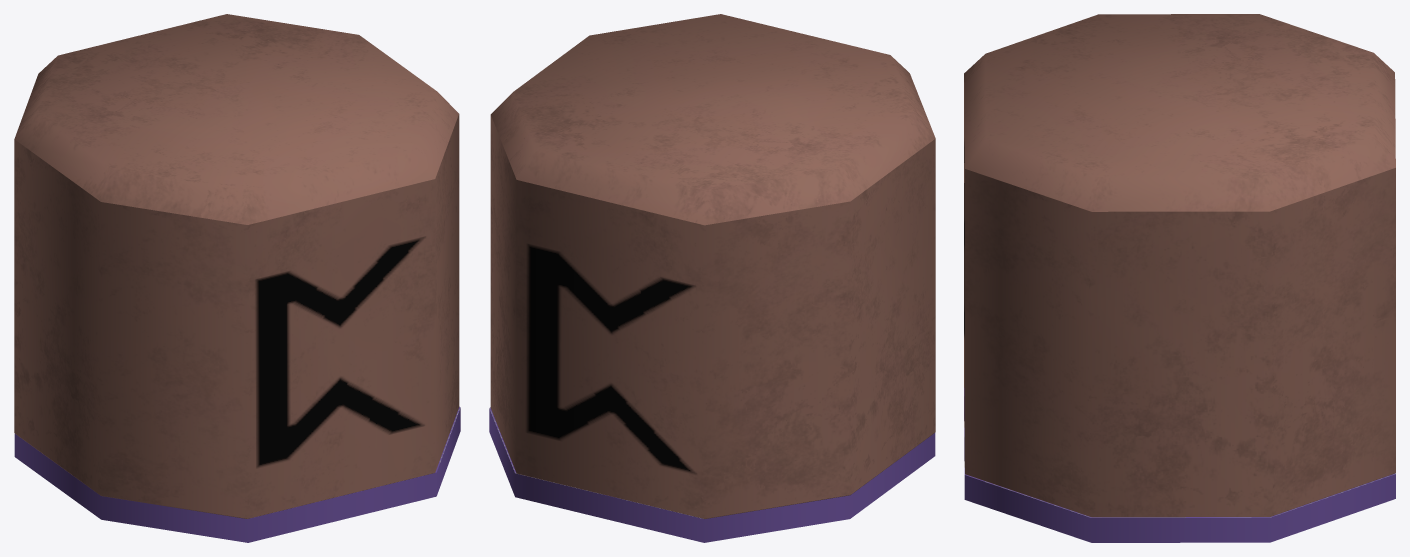
Rendered from arriba.fbx.
The picture shows the model from 3 angles, left to right: view 1: azimuth 30°, elevation 25°; view 2: azimuth 150°, elevation 25°; view 3: azimuth 270°, elevation 25°; orthographic projection. The views are drawn at different scales.
Parts seen in each view (by area): view 1: Cabeza, Circle.004; view 2: Cabeza, Circle.004; view 3: Cabeza, Circle.004.
Part boxes in pixels (left/top/right/bottom): Cabeza: left=14, top=14, right=459, bottom=518; Circle.004: left=14, top=406, right=460, bottom=542; Cabeza: left=490, top=14, right=935, bottom=518; Circle.004: left=489, top=407, right=935, bottom=542; Cabeza: left=964, top=14, right=1395, bottom=517; Circle.004: left=964, top=388, right=1395, bottom=542.
Bounding box in the file's own units: 260 × 237 × 259.
